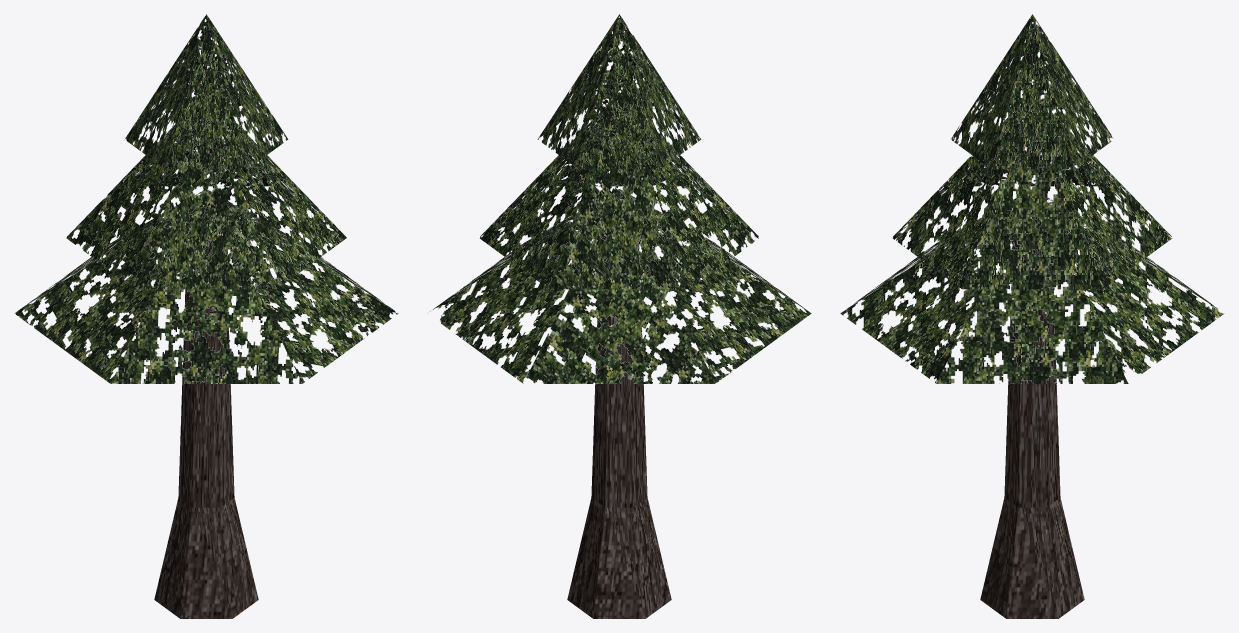
Rendered from tree3.fbx.
3 views of the same model, side by side, from view 1: azimuth 30°, elevation 25°; view 2: azimuth 150°, elevation 25°; view 3: azimuth 270°, elevation 25° (orthographic).
Parts seen in each view (by area): view 1: feuillage, tronc; view 2: feuillage, tronc; view 3: feuillage, tronc.
Boxes of the visible parts, <box> form: feuillage: <box>15,14,398,383</box>; tronc: <box>154,223,258,618</box>; feuillage: <box>430,14,811,383</box>; tronc: <box>567,220,671,618</box>; feuillage: <box>840,14,1224,383</box>; tronc: <box>980,237,1084,618</box>.
Size of the model in its own units: 1153 by 2240 by 1332.
